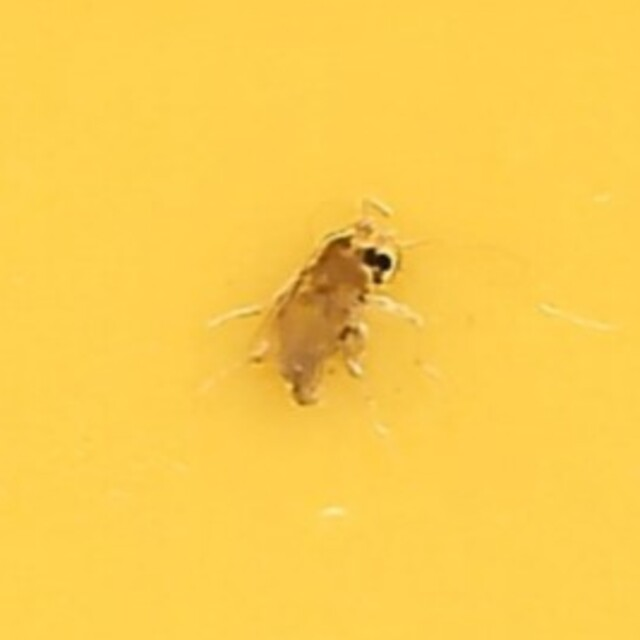Nematocera: (240, 212, 400, 428)
